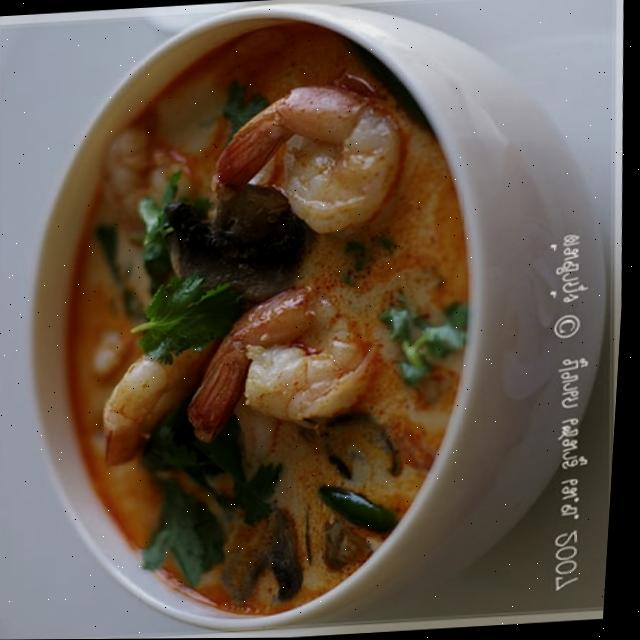汤锅炖物: (33, 26, 526, 616)
